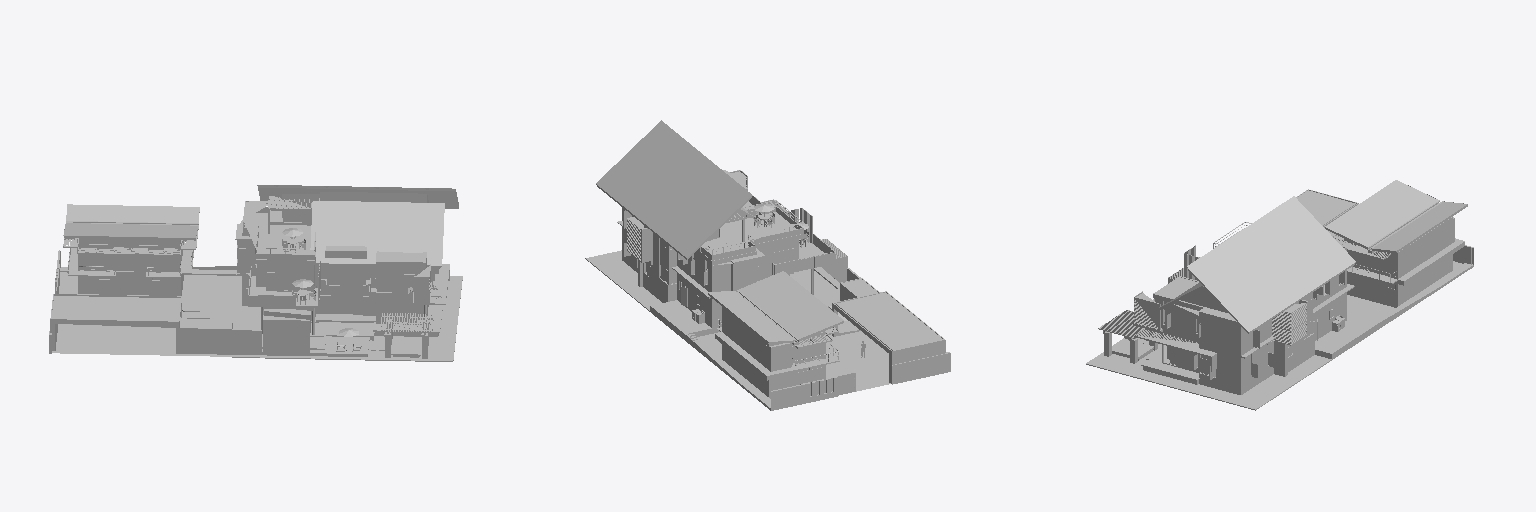
The model's file is modern house model.obj.
3 views of the same model, side by side, from view 1: azimuth 30°, elevation 25°; view 2: azimuth 150°, elevation 25°; view 3: azimuth 270°, elevation 25° (orthographic).
Parts seen in each view (by area): view 1: Mesh669 Group1 Model, Mesh658 Group1 Model, Mesh659 Group1 Model, Mesh199 Group11 Group1 Model, Mesh200 Group11 Group1 Model, Mesh232 Group11 Group1 Model, Mesh244 Group11 Group1 Model; view 2: Mesh669 Group1 Model, Mesh658 Group1 Model, Mesh659 Group1 Model, Mesh199 Group11 Group1 Model, Mesh200 Group11 Group1 Model, Mesh16 Group10 Group8 Group1 Model, Mesh15 Group10 Group8 Group1 Model, Mesh232 Group11 Group1 Model; view 3: Mesh669 Group1 Model, Mesh658 Group1 Model, Mesh199 Group11 Group1 Model, Mesh659 Group1 Model, Mesh200 Group11 Group1 Model.
Part boxes in pixels (bbox=[...]): Mesh669 Group1 Model: bbox=[50, 266, 462, 361]; Mesh658 Group1 Model: bbox=[235, 185, 458, 267]; Mesh659 Group1 Model: bbox=[63, 204, 199, 255]; Mesh199 Group11 Group1 Model: bbox=[237, 246, 449, 310]; Mesh200 Group11 Group1 Model: bbox=[67, 240, 193, 278]; Mesh232 Group11 Group1 Model: bbox=[248, 267, 295, 307]; Mesh244 Group11 Group1 Model: bbox=[369, 279, 412, 304]; Mesh669 Group1 Model: bbox=[585, 227, 945, 410]; Mesh658 Group1 Model: bbox=[596, 120, 804, 265]; Mesh659 Group1 Model: bbox=[708, 271, 843, 348]; Mesh199 Group11 Group1 Model: bbox=[617, 170, 834, 298]; Mesh200 Group11 Group1 Model: bbox=[715, 309, 839, 380]; Mesh16 Group10 Group8 Group1 Model: bbox=[771, 377, 837, 410]; Mesh15 Group10 Group8 Group1 Model: bbox=[891, 352, 950, 384]; Mesh232 Group11 Group1 Model: bbox=[772, 235, 834, 274]; Mesh669 Group1 Model: bbox=[1086, 189, 1473, 410]; Mesh658 Group1 Model: bbox=[1153, 196, 1355, 333]; Mesh199 Group11 Group1 Model: bbox=[1133, 245, 1354, 371]; Mesh659 Group1 Model: bbox=[1325, 180, 1467, 259]; Mesh200 Group11 Group1 Model: bbox=[1347, 219, 1464, 285].
Bounding box in the file's own units: 44.55 × 14.04 × 38.49.